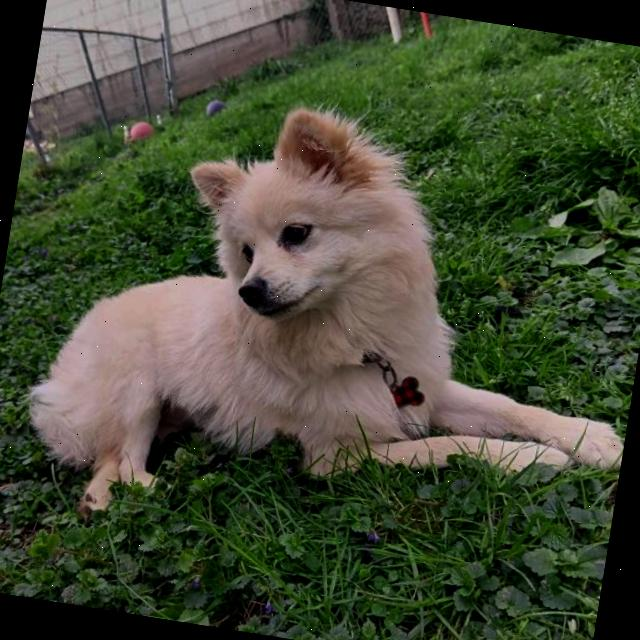pomeranian_dog: (158, 75, 438, 368)
